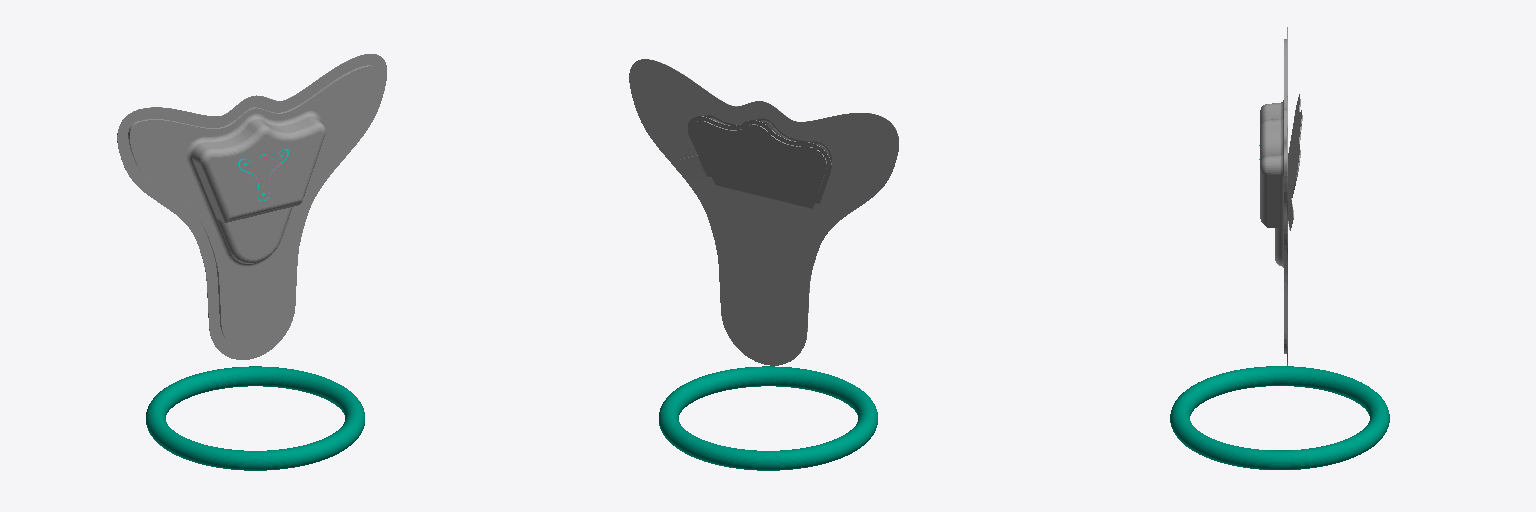
The picture shows the model from 3 angles: view 1: azimuth 30°, elevation 25°; view 2: azimuth 150°, elevation 25°; view 3: azimuth 270°, elevation 25°; orthographic projection.
Parts seen in each view (by area): view 1: Icone_patch_Inomedis, Torus.004; view 2: Icone_patch_Inomedis, Torus.004; view 3: Torus.004, Icone_patch_Inomedis.
Part boxes in pixels (bbox=[...]): Icone_patch_Inomedis: bbox=[117, 54, 386, 359]; Torus.004: bbox=[146, 366, 364, 470]; Icone_patch_Inomedis: bbox=[629, 59, 898, 365]; Torus.004: bbox=[659, 366, 877, 470]; Torus.004: bbox=[1170, 366, 1389, 469]; Icone_patch_Inomedis: bbox=[1259, 27, 1302, 365].
Size of the model in its own units: 1.25 by 1.52 by 0.88.
3 materials, 1 textured.